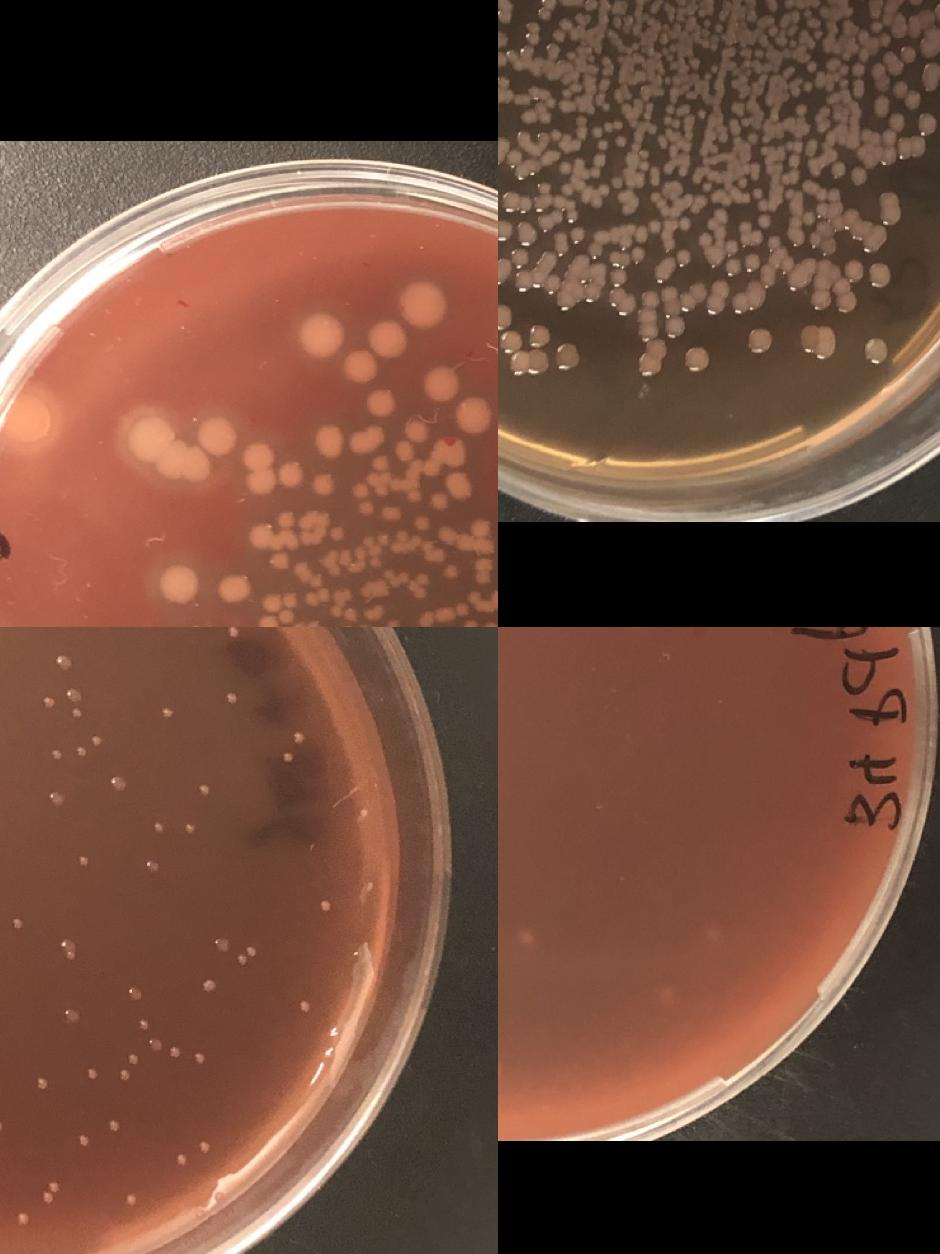pddamselae: (340, 318, 408, 384), (397, 280, 446, 328), (296, 312, 344, 360), (240, 441, 276, 498), (158, 566, 198, 606), (196, 416, 236, 456), (453, 396, 493, 436), (393, 418, 429, 462), (257, 592, 295, 627), (422, 366, 458, 402), (218, 572, 252, 606), (366, 386, 394, 419), (310, 472, 334, 496), (382, 568, 409, 589), (266, 550, 290, 572), (426, 491, 450, 513), (274, 508, 296, 530), (412, 572, 429, 600), (371, 455, 388, 473), (417, 610, 435, 627), (474, 570, 491, 586), (302, 592, 318, 608), (328, 526, 344, 540), (352, 484, 368, 498), (342, 608, 359, 620), (358, 502, 372, 516), (414, 516, 428, 530), (442, 566, 456, 580), (454, 603, 468, 617), (289, 621, 321, 627), (368, 556, 382, 568), (361, 535, 373, 547), (462, 619, 477, 627), (357, 623, 385, 627), (385, 619, 399, 627)
pdpiscicida: (233, 944, 259, 969), (38, 1182, 60, 1207), (703, 926, 720, 942), (660, 988, 676, 1004), (74, 856, 92, 870), (116, 1070, 134, 1084), (180, 822, 198, 836), (202, 980, 220, 994), (73, 746, 90, 760), (212, 937, 230, 950), (16, 1213, 32, 1227), (48, 748, 64, 762), (62, 687, 78, 701), (82, 1068, 98, 1082), (88, 734, 104, 748), (134, 1018, 150, 1032), (148, 822, 164, 836), (160, 706, 176, 720), (166, 1045, 182, 1059), (192, 1052, 208, 1066), (196, 782, 212, 796), (280, 752, 296, 766), (290, 732, 306, 746), (296, 999, 312, 1013), (316, 899, 332, 913), (518, 930, 534, 944), (69, 707, 84, 721), (107, 1120, 122, 1134), (110, 776, 125, 790), (125, 986, 140, 1000), (145, 860, 160, 874), (224, 691, 238, 706), (64, 1010, 80, 1023), (32, 1078, 49, 1090), (56, 655, 70, 669), (60, 940, 74, 954), (124, 1052, 138, 1066), (124, 1194, 138, 1208), (198, 1142, 212, 1156), (9, 917, 24, 930), (40, 696, 55, 709), (49, 794, 64, 807), (176, 1156, 192, 1168), (146, 1038, 161, 1050), (224, 627, 241, 637), (78, 1134, 92, 1146)
vharveyi: (498, 304, 549, 375), (689, 279, 730, 315), (871, 96, 906, 134), (590, 118, 624, 153), (890, 79, 924, 114), (636, 340, 668, 377), (828, 159, 868, 188), (630, 224, 649, 268), (866, 260, 892, 288), (682, 346, 709, 372), (554, 344, 580, 370), (745, 328, 771, 354), (863, 338, 889, 364), (914, 112, 940, 138), (879, 192, 898, 226), (508, 247, 532, 271), (498, 190, 520, 216), (898, 42, 918, 66), (818, 235, 838, 258), (700, 18, 724, 35), (529, 327, 549, 347), (639, 290, 659, 310), (665, 317, 685, 337), (675, 214, 695, 234), (693, 230, 713, 250), (700, 62, 720, 82), (730, 293, 750, 313), (753, 210, 773, 230), (835, 292, 855, 312), (842, 260, 862, 280), (568, 226, 586, 248), (811, 292, 830, 312), (518, 107, 536, 127), (674, 249, 692, 269), (498, 221, 512, 241), (792, 102, 810, 116), (498, 51, 508, 71), (614, 135, 628, 149), (738, 116, 751, 130), (598, 184, 610, 198), (610, 176, 622, 190), (695, 108, 707, 122), (717, 131, 729, 145), (736, 176, 748, 190), (746, 132, 758, 146), (800, 80, 812, 94), (805, 60, 817, 74), (810, 29, 823, 41), (752, 187, 763, 201), (660, 75, 672, 87), (663, 103, 675, 115), (766, 25, 778, 37), (786, 38, 798, 50), (800, 7, 812, 19), (498, 0, 510, 11), (752, 49, 763, 61)
